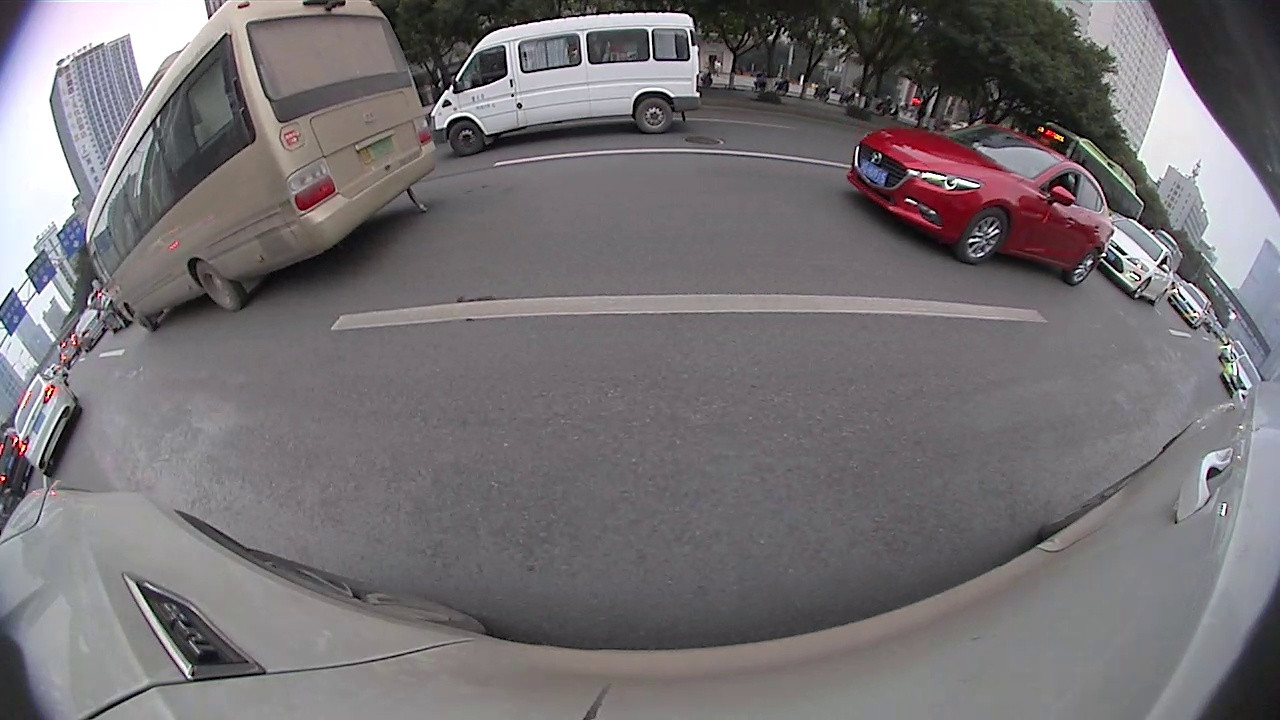bus: (87, 2, 437, 331), (1023, 120, 1143, 222)
car: (847, 126, 1113, 287), (431, 14, 698, 155), (12, 372, 83, 476), (1102, 220, 1172, 306), (1169, 282, 1209, 331)
front: (959, 211, 1010, 259), (450, 121, 481, 154), (123, 303, 155, 328)
rear: (192, 260, 243, 309), (1066, 249, 1102, 286), (638, 98, 669, 131)
